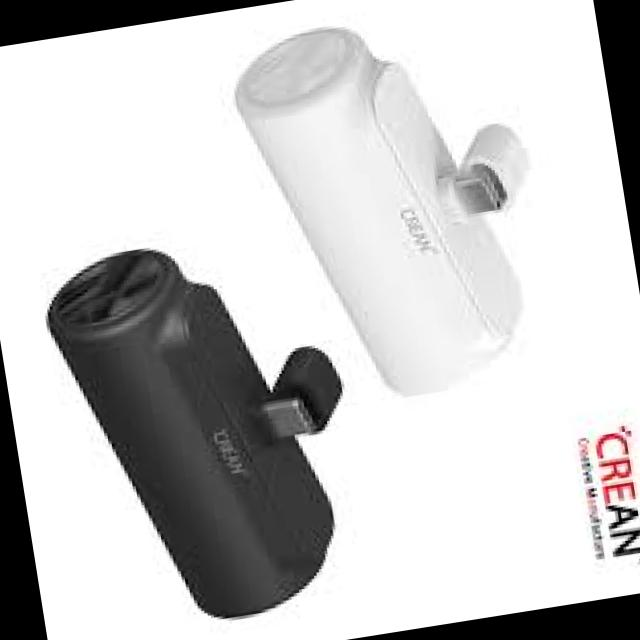portable-charger: (27, 215, 380, 640), (220, 0, 566, 421)
